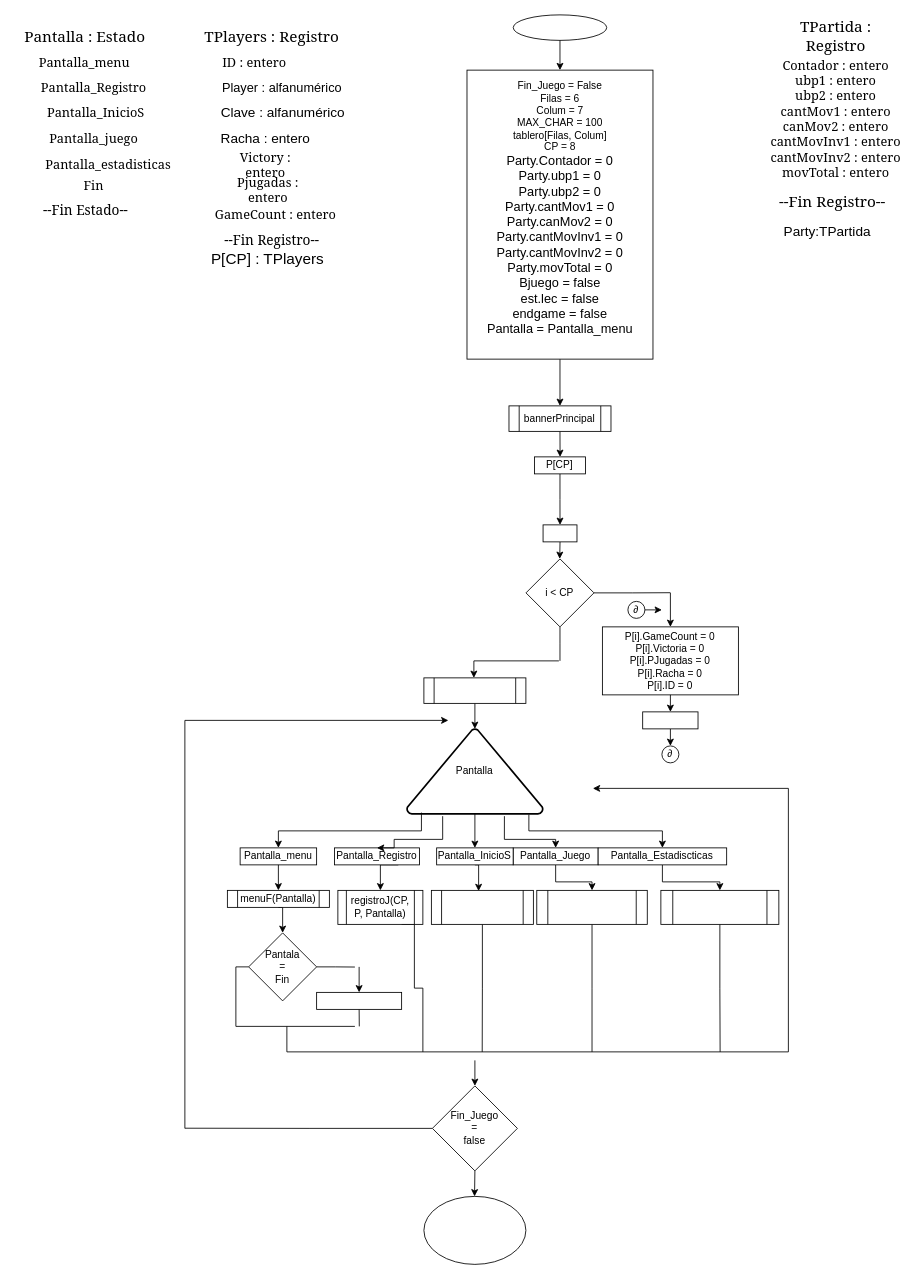
The diagram is 924 pixels wide and 1279 high, and some of its shapes have lost their labels. The shapes that lost their labels are listed below. From the top down, each one's centre as x and y in pixels, then its label:
point 559,27: Inicio
point 559,533: i = 0
point 474,690: pantallaCarga()
point 670,720: i = i + 1
point 482,907: login(P, Party, Pantalla, Bjuego)
point 591,907: juego(P, Bjuego, Party, tablero, Pantalla
point 719,907: estadisticas(P, Party, CP, Pantalla)
point 359,1000: Fin_Juego = True
